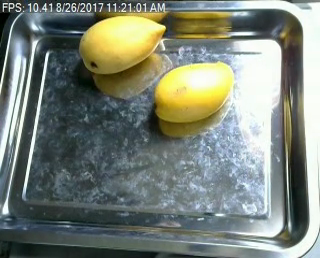Mango: (77, 15, 164, 75), (152, 62, 232, 122)
